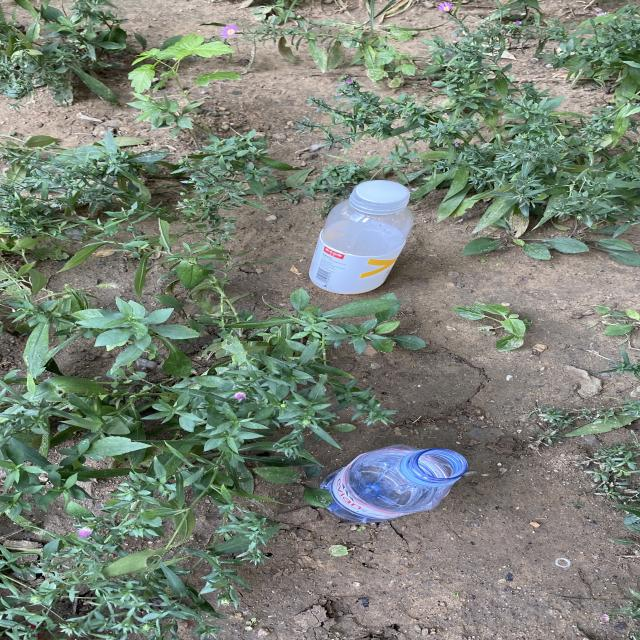Anorganik: (318, 437, 490, 529), (302, 180, 422, 294)
